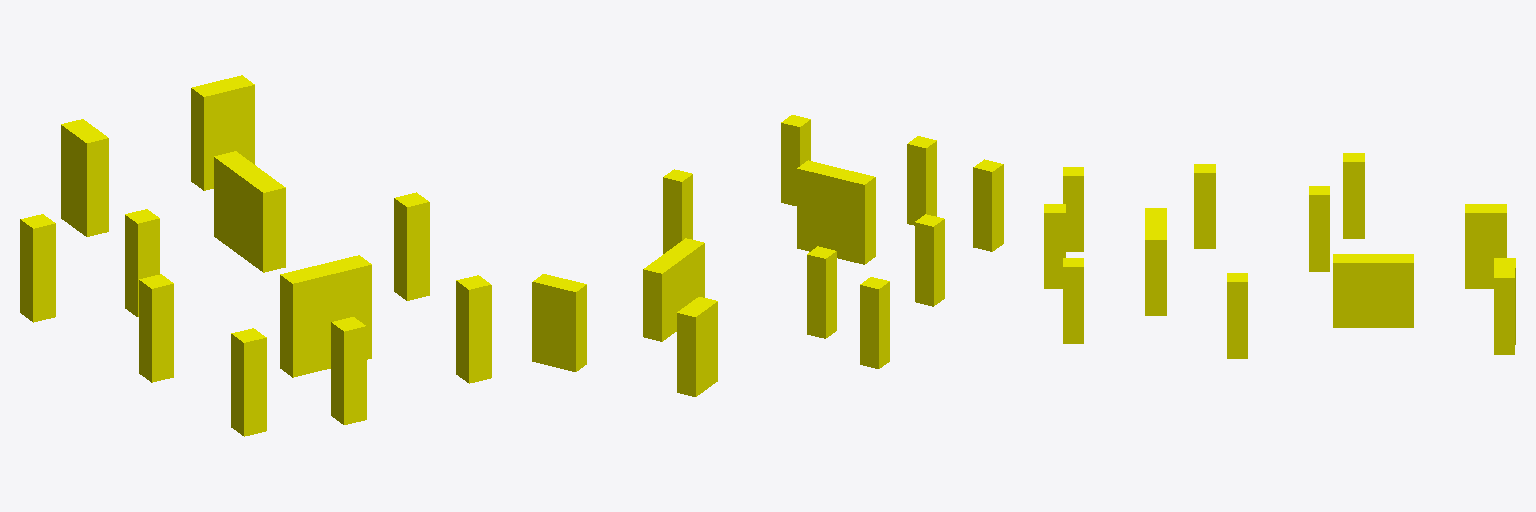
URDF robot description (pillars):
<?xml version="1.0" ?>
<robot name="pillars">
    <link name="pillars" concave="yes">
        <inertial>
            <origin rpy="0 0 1.57" xyz="0 0 0"/>
            <mass value="0"/>
            <inertia ixx="0" ixy="0" ixz="0" iyy="0" iyz="0" izz="0"/>
          </inertial>
        <visual>
        <origin rpy="0 0 1.57" xyz="0 0 0"/>
         <geometry>
            <mesh filename="./meshes/pillars.obj" scale="0.5 0.5 0.5" />
         </geometry>
         <material name="yellow">
            <color rgba="1 1 0 1"/>
          </material> 
        </visual> 
        <collision>
            <origin rpy="0 0 1.57" xyz="0 0 1" />
            <geometry>
              <!-- <mesh filename="./meshes/pillars.obj" scale="0.5 0.5 0.5" /> -->
              <box size="0.0 0.0 0.0"/>
            </geometry>
          </collision>  
    </link>
</robot>

--- Render facts (derived) ---
The picture shows the robot from 3 angles, left to right: view 1: azimuth 30°, elevation 25°; view 2: azimuth 150°, elevation 25°; view 3: azimuth 270°, elevation 25°; orthographic projection.
Model pillars with 1 links and 0 joints (none), rooted at pillars, posed every joint at zero.
Visible links, largest first — view 1: pillars; view 2: pillars; view 3: pillars.
Boxes of the visible links, x1,y1,x2,y2 form: pillars: [20, 75, 491, 436]; pillars: [532, 115, 1003, 396]; pillars: [1044, 153, 1515, 358].
Bounding box of the posed robot: 7.24 × 11.14 × 2.05 m (x, y, z).
Meshes: 1 distinct files referenced, 1 mesh visuals loaded (1 OBJ).